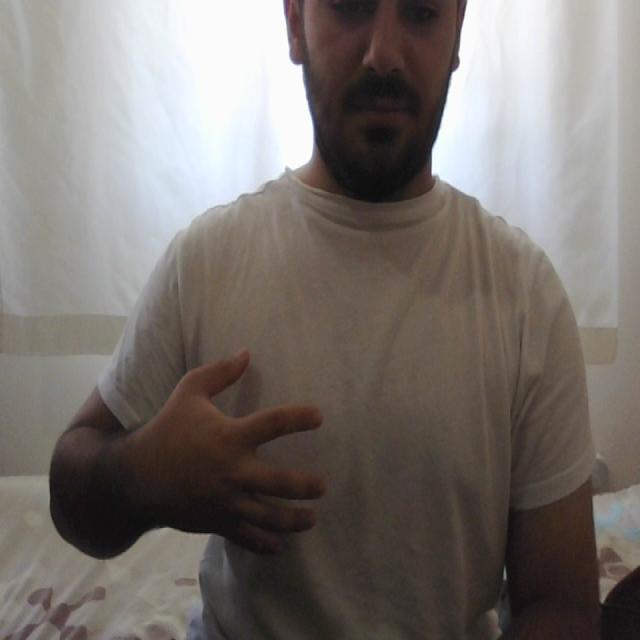Anne: (157, 346, 333, 563)
